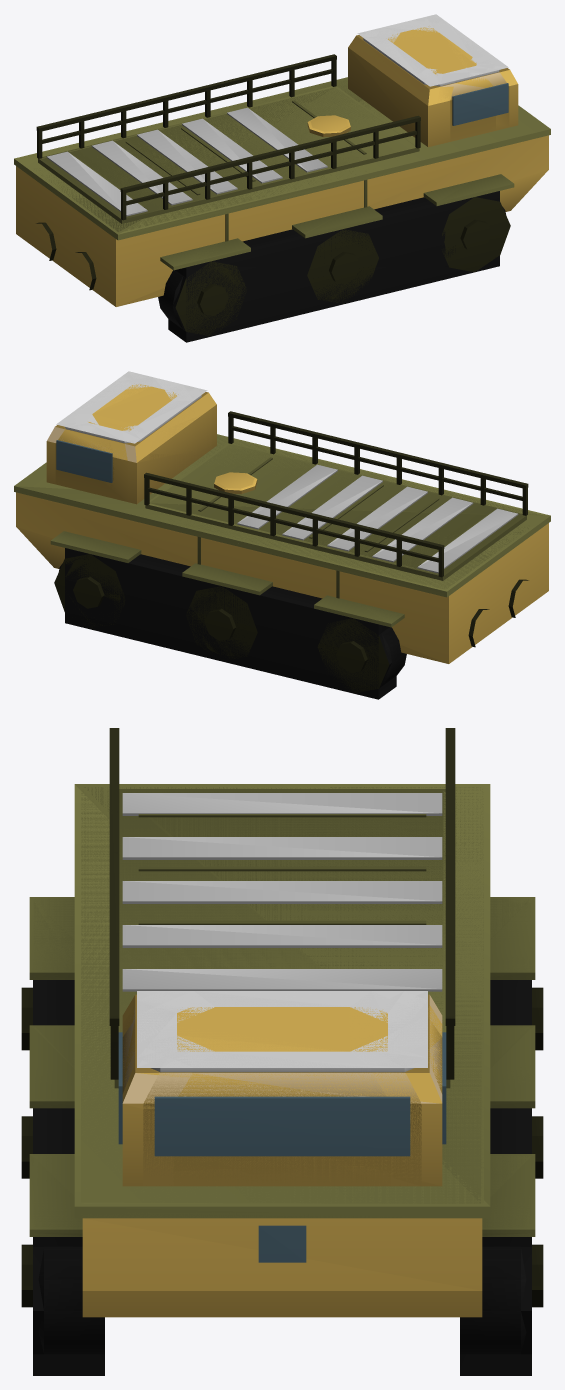
File: meridian_amphibious_transport.glb
The picture shows the model from 3 angles, top to bottom: view 1: azimuth 30°, elevation 25°; view 2: azimuth 150°, elevation 25°; view 3: azimuth 270°, elevation 25°; orthographic projection. The views are drawn at different scales.
Visible parts, largest first — view 1: hull (×3); view 2: hull (×3); view 3: hull (×3).
Boxes of the visible parts, x1,y1,x2,y2 form: hull (×3): [14, 14, 550, 342]; hull (×3): [14, 371, 550, 699]; hull (×3): [21, 728, 543, 1375].
Bounding box in the file's own units: 6.32 × 2.36 × 3.26.
